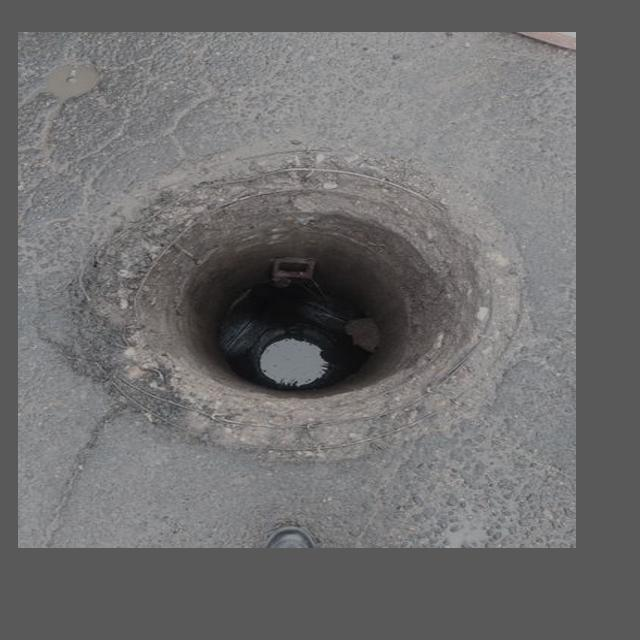lose: (76, 172, 523, 447)
